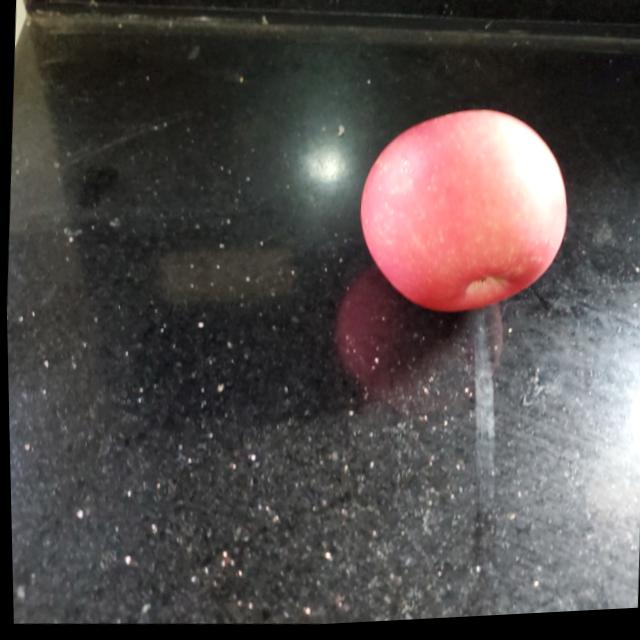apple: (353, 101, 575, 322)
